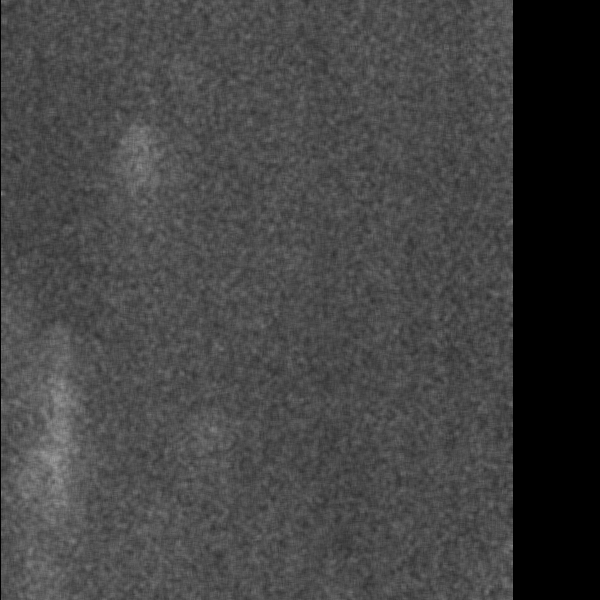spark: (27, 361, 73, 545), (114, 118, 159, 202)
